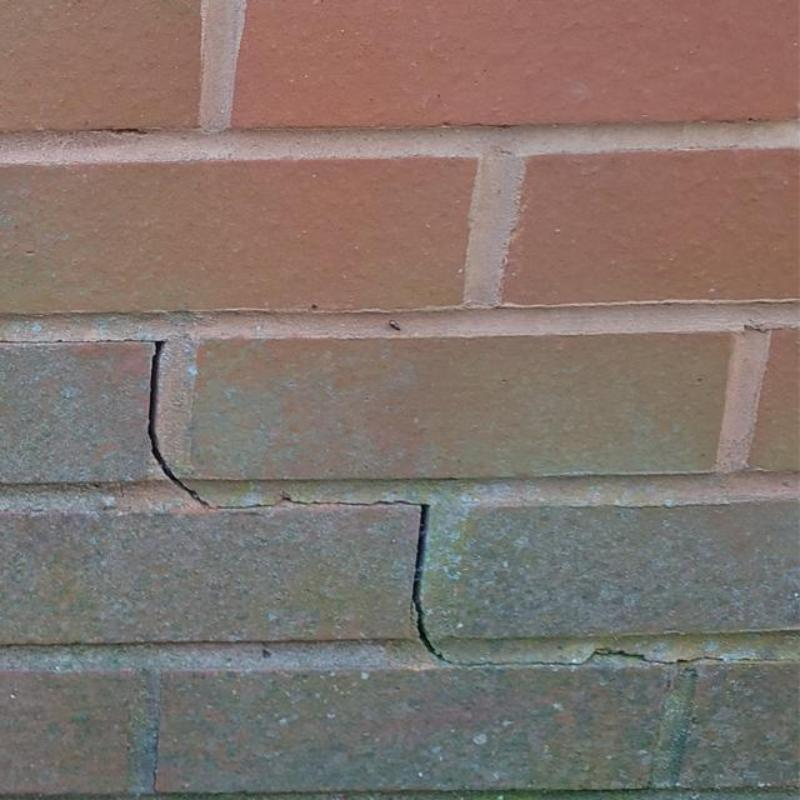pothole: (148, 342, 445, 659), (441, 648, 773, 667), (0, 339, 158, 344)
